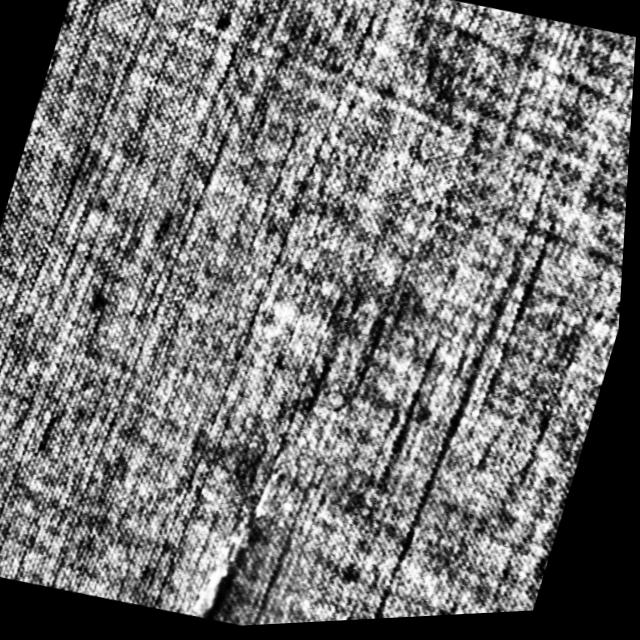Stitch: (200, 461, 291, 629)
